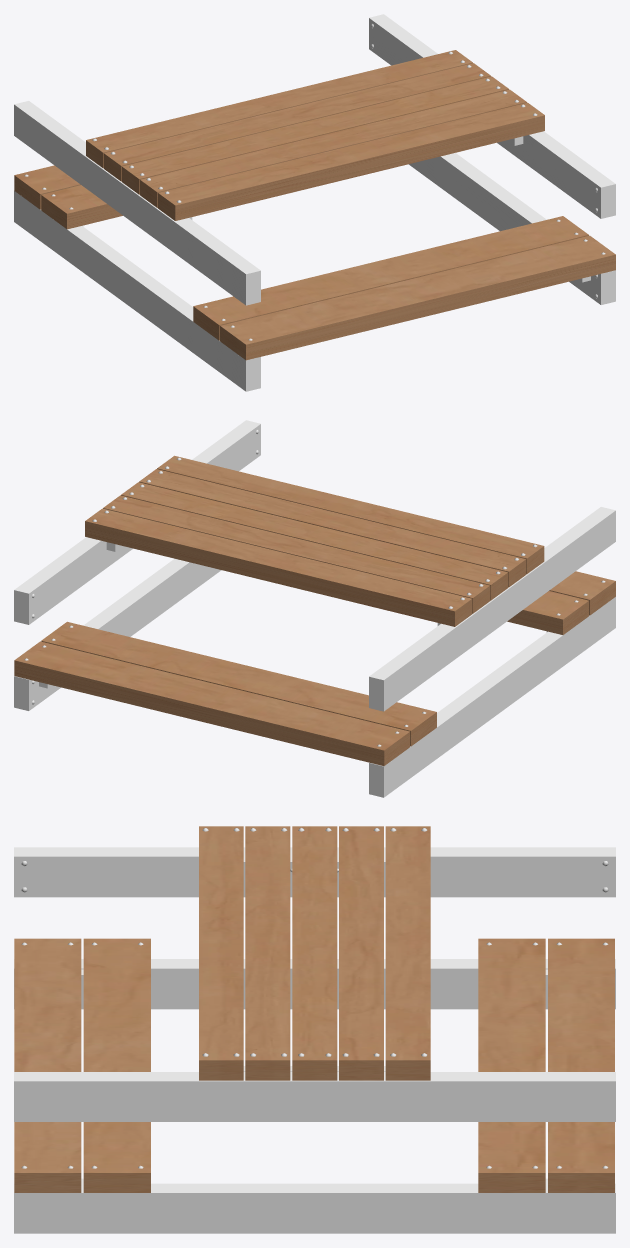
3 renders of one model, top to bottom at view 1: azimuth 30°, elevation 25°; view 2: azimuth 150°, elevation 25°; view 3: azimuth 270°, elevation 25°, orthographic. The views are drawn at different scales.
Parts seen in each view (by area): view 1: Icosphere006_2, Icosphere006_1,_colorize_; view 2: Icosphere006_2, Icosphere006_1,_colorize_; view 3: Icosphere006_2, Icosphere006_1,_colorize_, Icosphere006.
Part boxes in pixels (x1,y1,x2,y2): Icosphere006_2: (14, 50, 615, 360); Icosphere006_1,_colorize_: (14, 14, 615, 391); Icosphere006_2: (14, 455, 615, 765); Icosphere006_1,_colorize_: (14, 420, 615, 797); Icosphere006_2: (14, 826, 614, 1192); Icosphere006_1,_colorize_: (14, 847, 615, 1233); Icosphere006: (21, 828, 608, 1168).
Size of the model in its own units: 1.26 by 0.4408 by 1.36.
3 materials, 1 textured.
